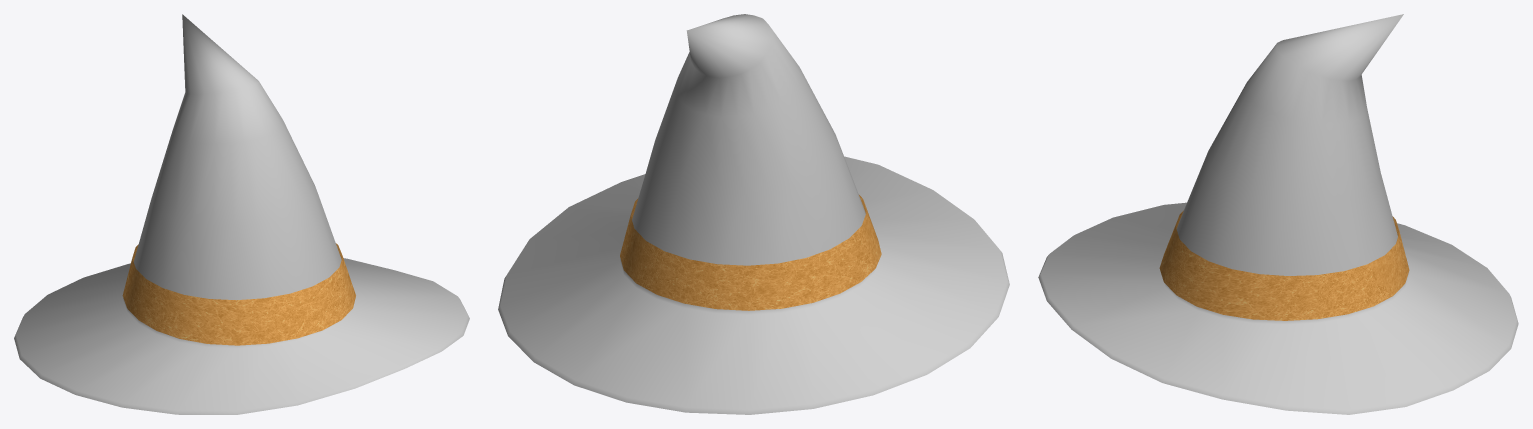
File: HalloweenHat_ver1.0.fbx
The picture shows the model from 3 angles, left to right: view 1: azimuth 30°, elevation 25°; view 2: azimuth 150°, elevation 25°; view 3: azimuth 270°, elevation 25°; orthographic projection. The views are drawn at different scales.
Parts seen in each view (by area): view 1: halloweenhat_spider, ribbon_orange; view 2: halloweenhat_spider, ribbon_orange; view 3: halloweenhat_spider, ribbon_orange.
Part boxes in pixels (left/top/right/bottom): halloweenhat_spider: left=14, top=14, right=469, bottom=414; ribbon_orange: left=122, top=243, right=355, bottom=345; halloweenhat_spider: left=498, top=14, right=1009, bottom=414; ribbon_orange: left=620, top=195, right=881, bottom=310; halloweenhat_spider: left=1038, top=14, right=1518, bottom=414; ribbon_orange: left=1159, top=210, right=1409, bottom=320.
Size of the model in its own units: 55.96 by 39.56 by 55.59.
